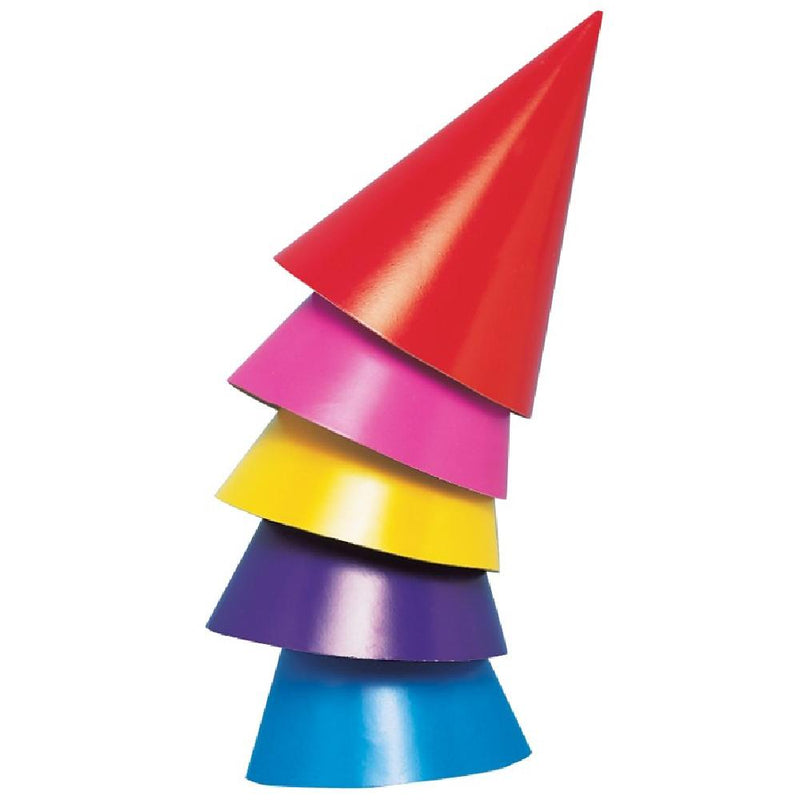cone: (274, 11, 604, 419)
